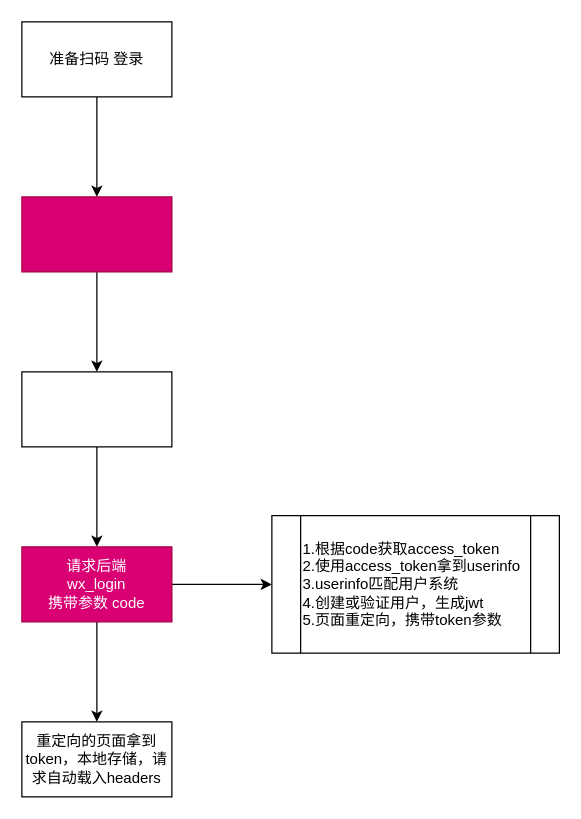
Image size: 581x819. Some labels were removed from this diagram. The centre of each missing label's shape, as x and y in pixels:
"微信扫码，获取code 根据上一步设置的redirect—url跳转，携带code" belongs at pixel 96 409.
"请求后端，获取qrcode" belongs at pixel 96 234.
